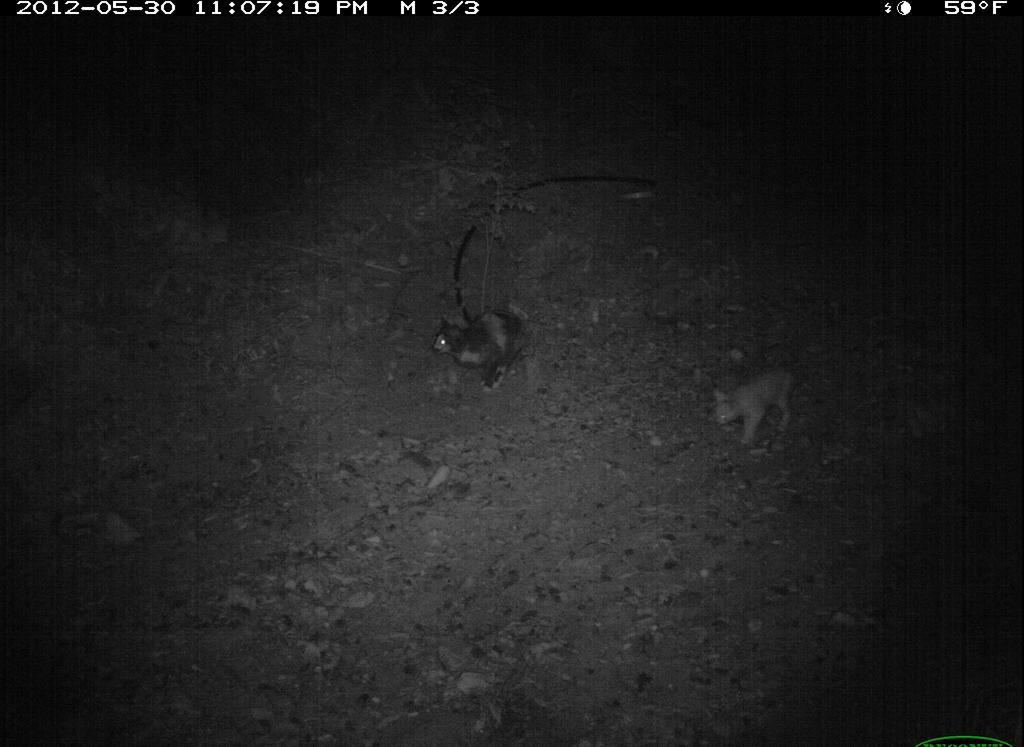cat: (427, 305, 542, 392), (712, 361, 797, 448)
